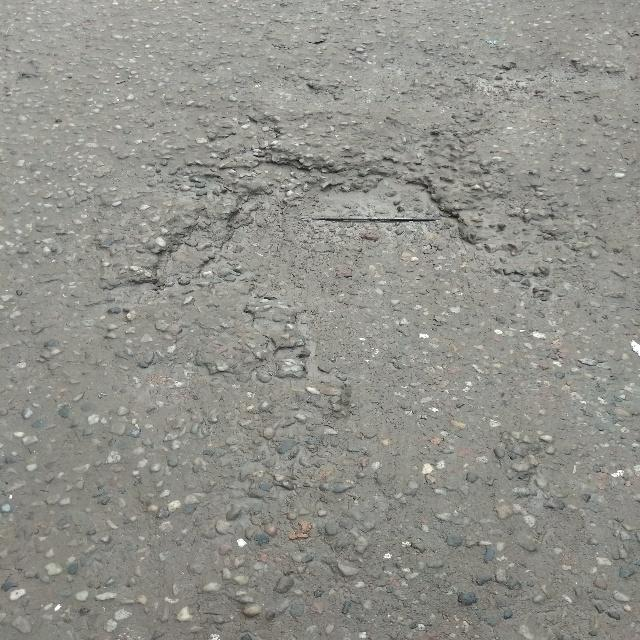Surface Erosion: (164, 52, 640, 388)
